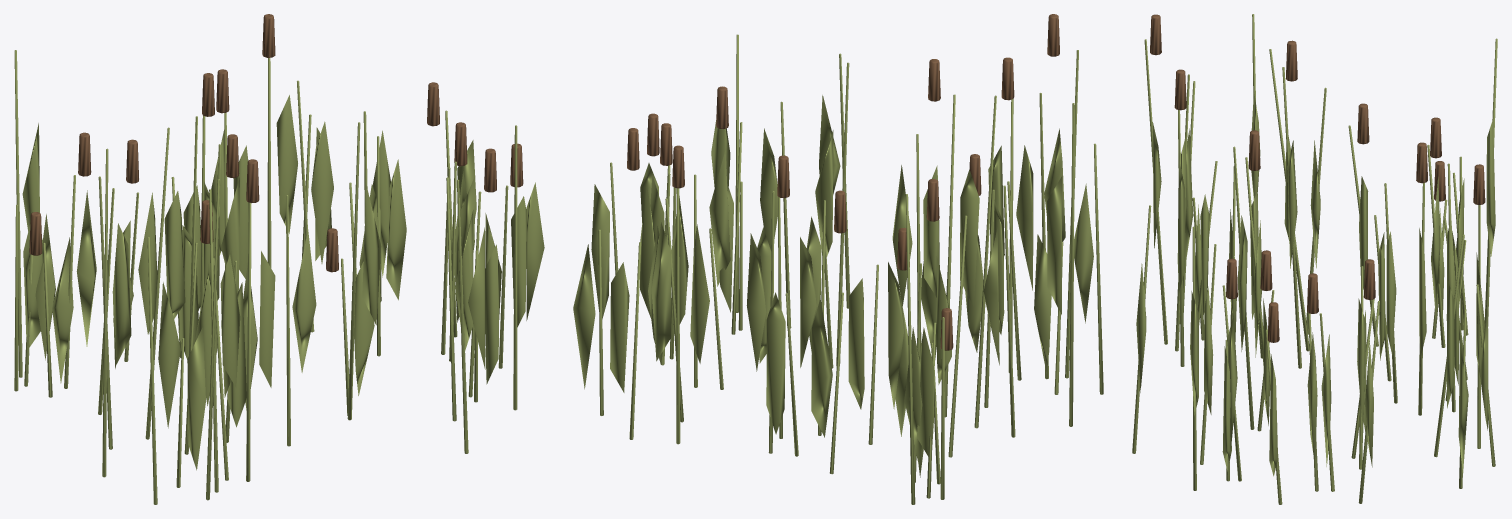
File: Prop_Reed_Cluster_01_LOD1.fbx
The picture shows the model from 3 angles, left to right: view 1: azimuth 30°, elevation 25°; view 2: azimuth 150°, elevation 25°; view 3: azimuth 270°, elevation 25°; orthographic projection. The views are drawn at different scales.
Parts seen in each view (by area): view 1: Reed_Leaf_34, Reed_Leaf_39, Reed_Leaf_16, Reed_Leaf_11, Reed_Leaf_14, Reed_Leaf_40, Reed_Leaf_00, Reed_Leaf_07, Reed_Leaf_31, Reed_Leaf_24, Reed_Leaf_22, Reed_Leaf_10 (+46 smaller); view 2: Reed_Leaf_41, Reed_Leaf_29, Reed_Leaf_39, Reed_Leaf_32, Reed_Leaf_34, Reed_Leaf_02, Reed_Leaf_40, Reed_Leaf_13, Reed_Leaf_15, Reed_Leaf_05, Reed_Leaf_21, Reed_Leaf_38 (+53 smaller); view 3: Reed_Leaf_08, Reed_Leaf_22, Reed_Leaf_28, Reed_Leaf_20, Reed_Leaf_33, Reed_Stem_00, Reed_Leaf_13, Reed_Leaf_35, Reed_Leaf_14, Reed_Leaf_26, Reed_Leaf_27, Reed_Stem_34 (+55 smaller).
Part boxes in pixels (left/top/right/bottom): Reed_Leaf_34: left=164, top=191, right=185, bottom=318; Reed_Leaf_39: left=276, top=95, right=297, bottom=233; Reed_Leaf_16: left=187, top=326, right=205, bottom=470; Reed_Leaf_11: left=386, top=159, right=406, bottom=300; Reed_Leaf_14: left=311, top=121, right=333, bottom=263; Reed_Leaf_40: left=113, top=223, right=131, bottom=364; Reed_Leaf_00: left=220, top=254, right=240, bottom=387; Reed_Leaf_07: left=158, top=282, right=180, bottom=428; Reed_Leaf_31: left=292, top=229, right=316, bottom=372; Reed_Leaf_24: left=76, top=190, right=96, bottom=346; Reed_Leaf_22: left=362, top=185, right=381, bottom=325; Reed_Leaf_10: left=485, top=244, right=499, bottom=384; Reed_Leaf_41: left=766, top=292, right=785, bottom=434; Reed_Leaf_29: left=811, top=298, right=832, bottom=437; Reed_Leaf_39: left=651, top=222, right=671, bottom=361; Reed_Leaf_32: left=610, top=262, right=629, bottom=392; Reed_Leaf_34: left=960, top=169, right=979, bottom=306; Reed_Leaf_02: left=848, top=278, right=864, bottom=409; Reed_Leaf_40: left=1047, top=176, right=1062, bottom=314; Reed_Leaf_13: left=573, top=244, right=595, bottom=389; Reed_Leaf_15: left=709, top=150, right=730, bottom=286; Reed_Leaf_05: left=746, top=233, right=766, bottom=371; Reed_Leaf_21: left=591, top=184, right=609, bottom=318; Reed_Leaf_38: left=690, top=224, right=709, bottom=363; Reed_Leaf_08: left=1486, top=119, right=1495, bottom=256; Reed_Leaf_22: left=1237, top=215, right=1247, bottom=351; Reed_Leaf_28: left=1386, top=231, right=1396, bottom=355; Reed_Leaf_20: left=1204, top=286, right=1213, bottom=414; Reed_Leaf_33: left=1177, top=159, right=1185, bottom=292; Reed_Stem_00: left=1144, top=39, right=1167, bottom=344; Reed_Leaf_13: left=1458, top=335, right=1468, bottom=472; Reed_Leaf_35: left=1200, top=194, right=1209, bottom=321; Reed_Leaf_14: left=1447, top=279, right=1454, bottom=408; Reed_Leaf_26: left=1190, top=291, right=1198, bottom=415; Reed_Leaf_27: left=1307, top=332, right=1317, bottom=465; Reed_Stem_34: left=1269, top=49, right=1309, bottom=351.
Size of the model in its own units: 316 by 252 by 248.
